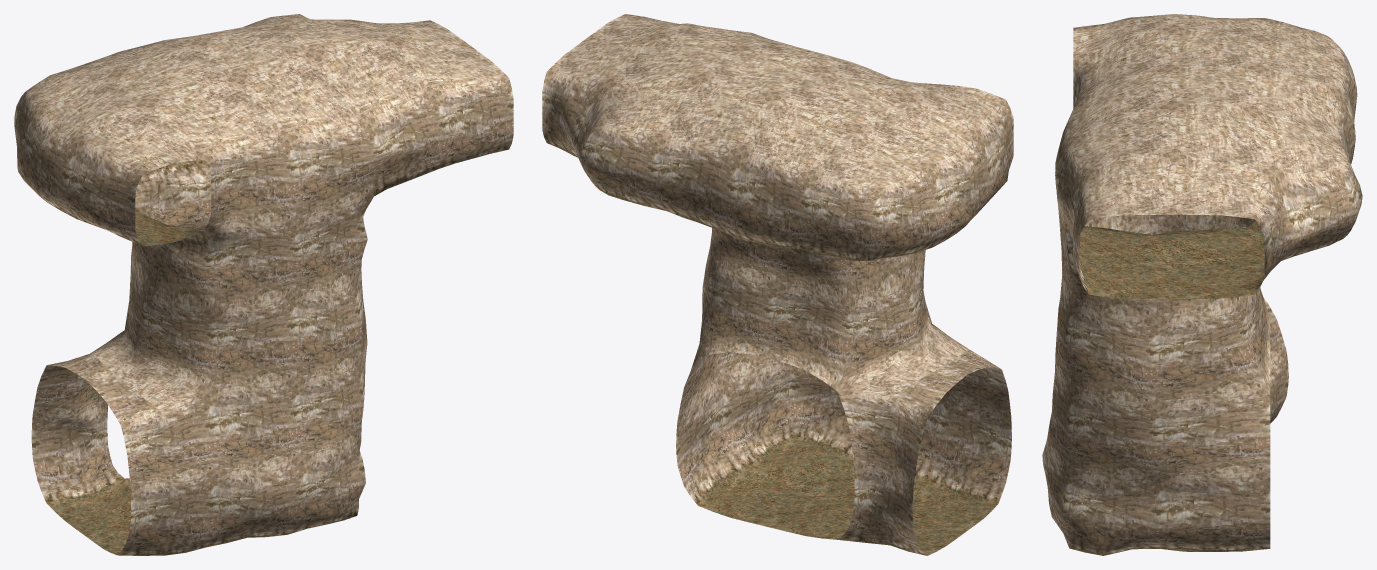
File: thm_all_cave_s03_mirror_r20_mesh_r20.fbx
3 views of the same model, side by side, from view 1: azimuth 30°, elevation 25°; view 2: azimuth 150°, elevation 25°; view 3: azimuth 270°, elevation 25° (orthographic). The views are drawn at different scales.
Visible parts, largest first — view 1: mesh_node; view 2: mesh_node; view 3: mesh_node.
Boxes of the visible parts, x1,y1,x2,y2 form: mesh_node: [14, 14, 513, 555]; mesh_node: [542, 14, 1013, 555]; mesh_node: [1042, 14, 1362, 555].
Size of the model in its own units: 43.02 by 43.8 by 27.66.
